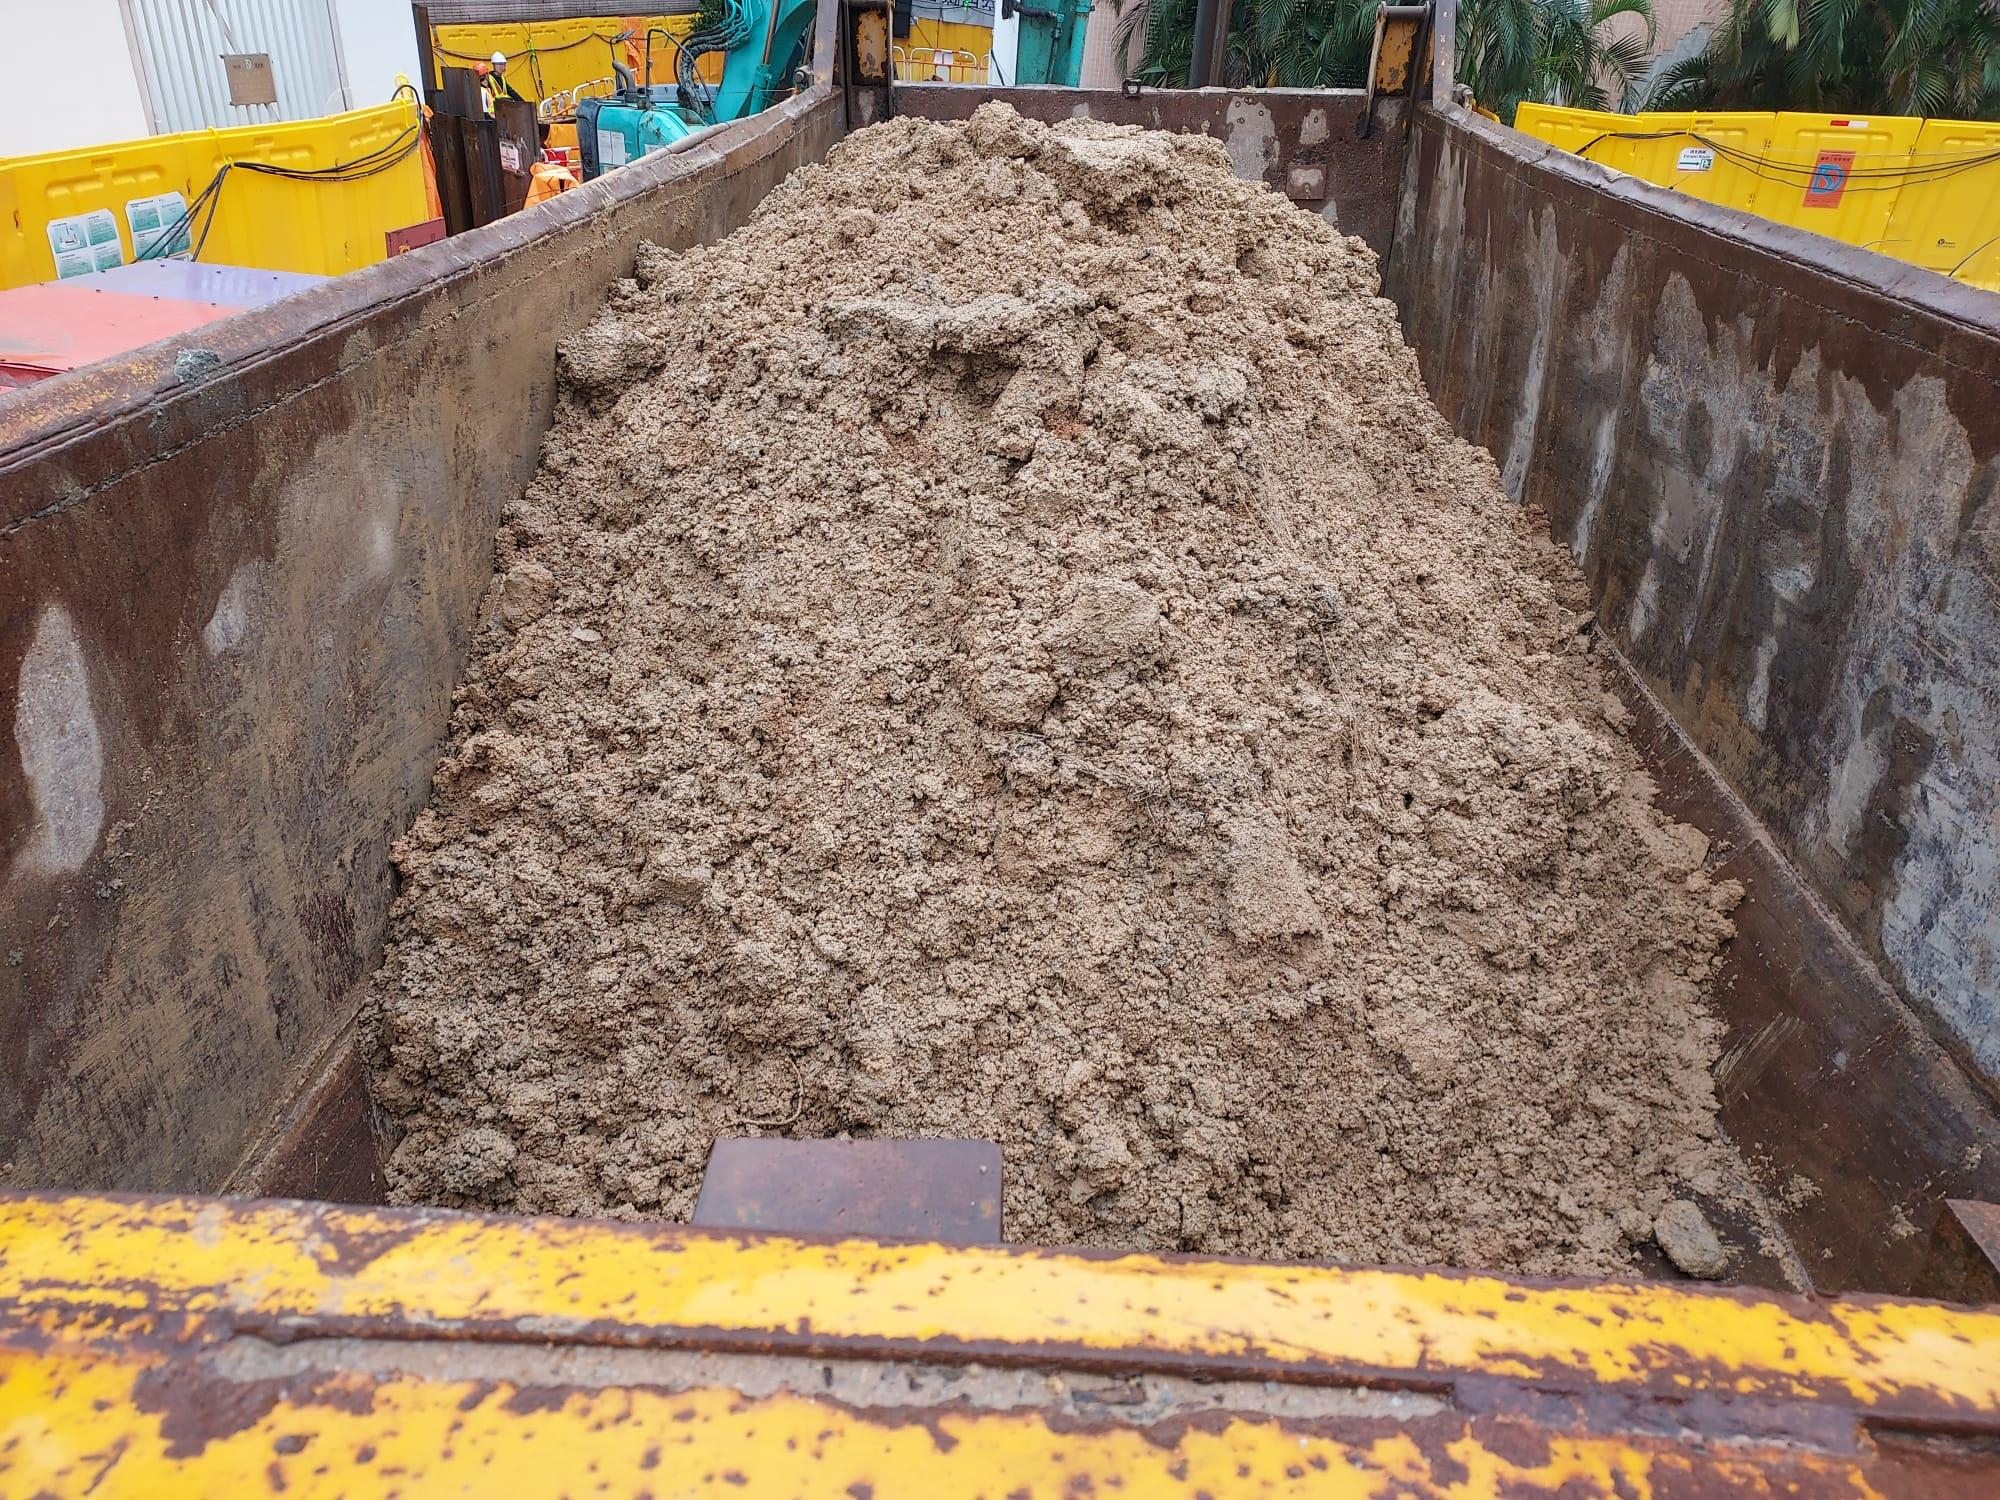dirt: (364, 98, 1820, 1290)
stone: (2, 1185, 1997, 1497)
